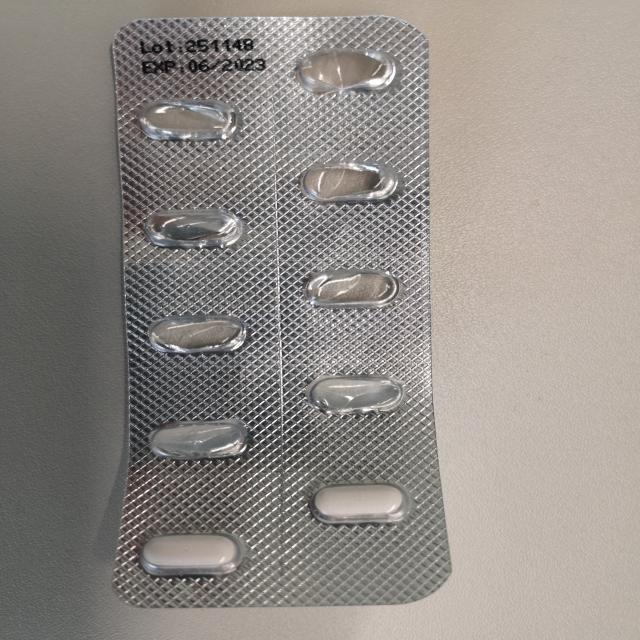Empty: (135, 203, 249, 253), (131, 97, 247, 146), (294, 264, 407, 314), (138, 418, 260, 464), (291, 46, 403, 96), (142, 311, 254, 360), (295, 159, 406, 208), (300, 370, 410, 418)
Pill: (133, 531, 250, 580), (305, 480, 419, 527)
